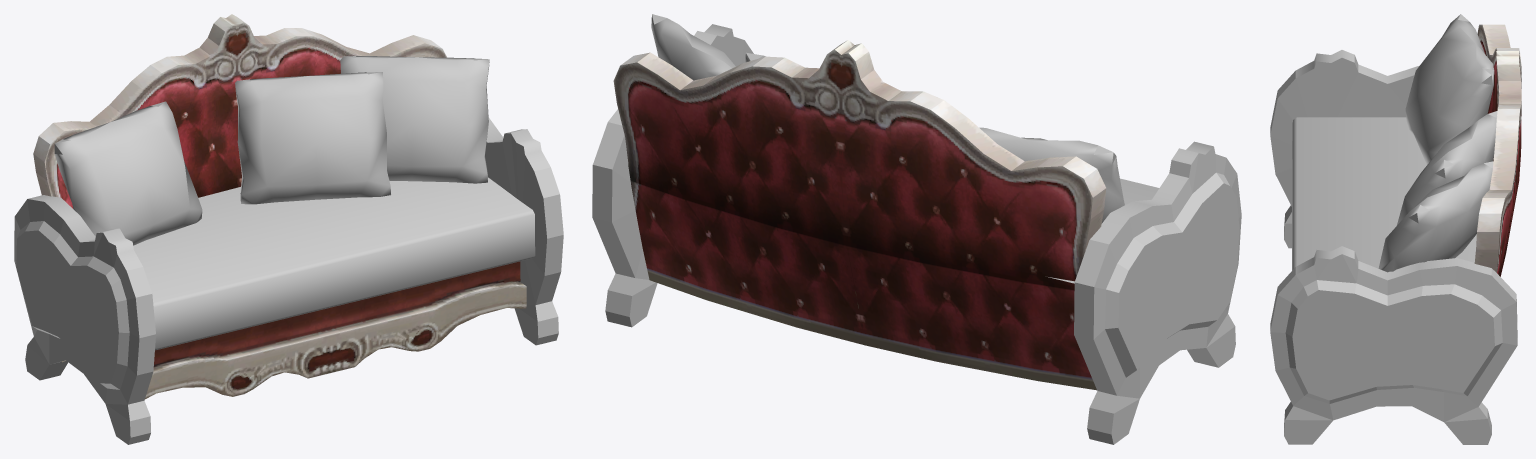
Rendered from furni_0201115_02.FBX.
3 views of the same model, side by side, from view 1: azimuth 30°, elevation 25°; view 2: azimuth 150°, elevation 25°; view 3: azimuth 270°, elevation 25° (orthographic). The views are drawn at different scales.
Parts seen in each view (by area): view 1: furni_0201115_02; view 2: furni_0201115_02; view 3: furni_0201115_02.
Boxes of the visible parts, x1=… form: furni_0201115_02: x1=14, y1=14, x2=563, y2=444; furni_0201115_02: x1=592, y1=14, x2=1241, y2=444; furni_0201115_02: x1=1270, y1=14, x2=1521, y2=444.
Size of the model in its own units: 158 by 99.44 by 78.57.
